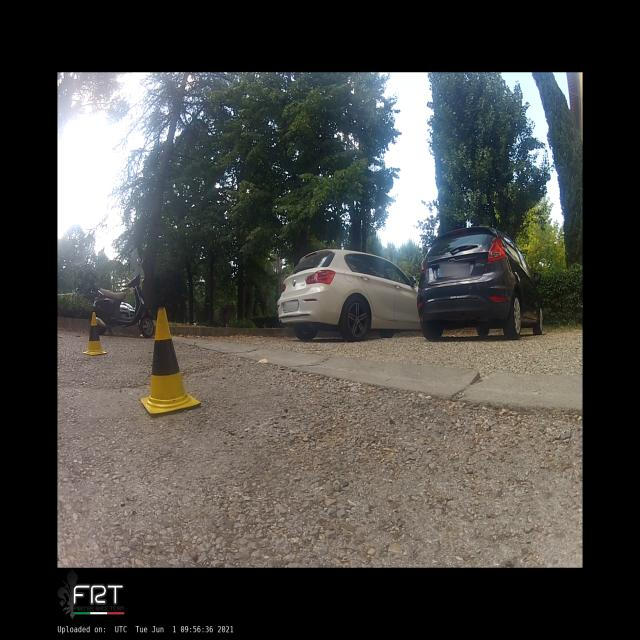yellow_cone: (141, 308, 201, 417), (82, 312, 108, 355)
